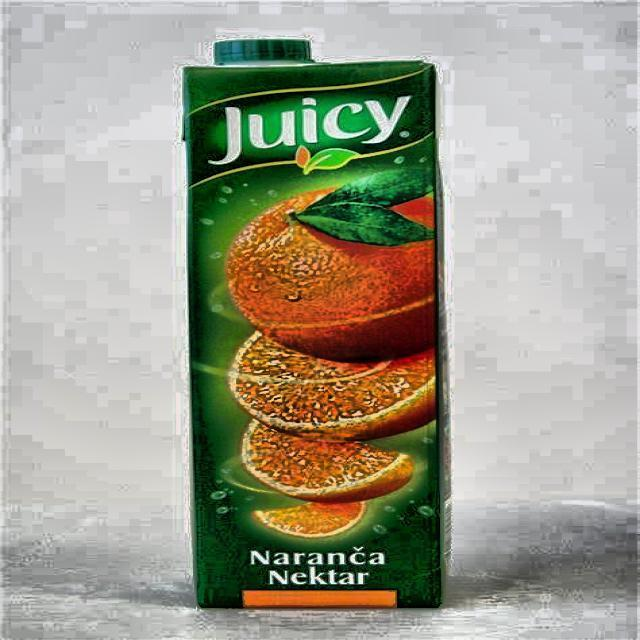cardboard: (181, 39, 450, 608)
